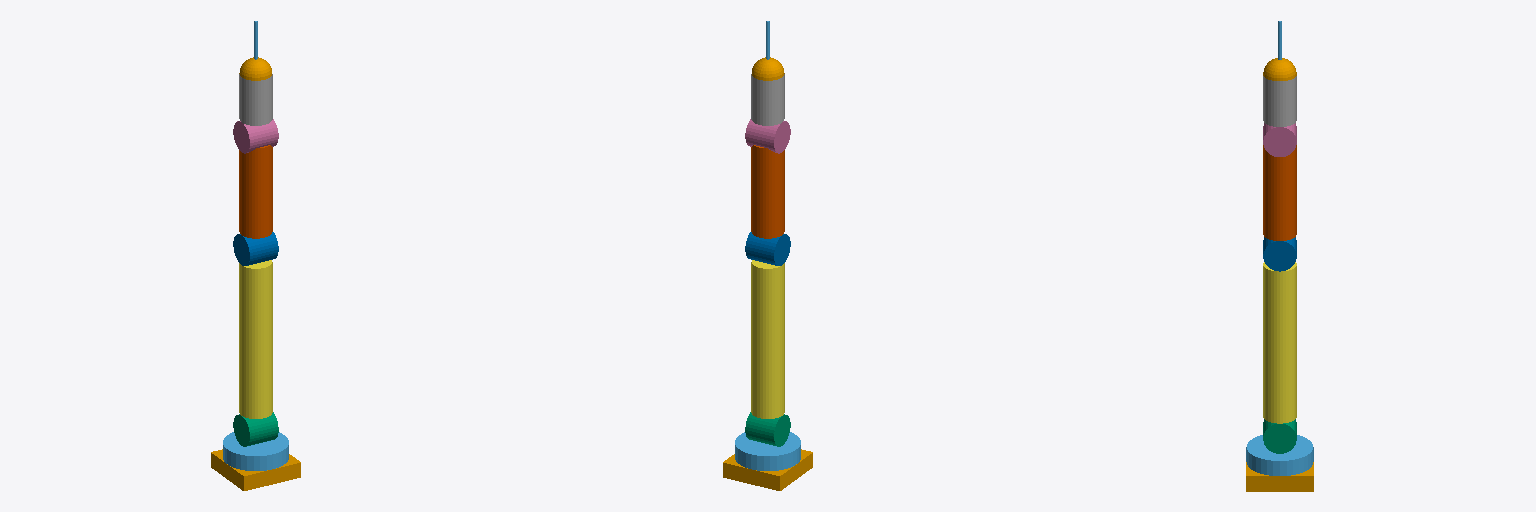
The robot description file, URDF, robot "final":
<?xml version="1.0"?>
<robot name="final">

	<link name="base_link">
	    <visual>
	      <geometry>
		<box size="4 4 1"/>
	      </geometry>
	    </visual>
	</link>

	<link name="rotator1">
	    <visual>
	      <geometry>
		<cylinder radius="2" length="1"/>
	      </geometry>
	    </visual>
	</link>

	<link name="pivot1">
	    <visual>
	      <origin xyz="0 0 0" rpy="0 1.57 0"/>
	      <geometry>
		<cylinder radius="1" length="2"/>
	      </geometry>
	    </visual>
	</link>

	<link name ="arm1">
	    <visual>
	      <origin xyz="0 0 6" rpy="0 0 0"/>
	      <geometry>
		<cylinder radius="1" length="10"/>
	      </geometry>
	    </visual>
	</link>

	<link name="pivot2">
	    <visual>
	      <origin xyz="0 0 0" rpy="0 1.57 0"/>
	      <geometry>
		<cylinder radius="1" length="2"/>
	      </geometry>
	    </visual>
	</link>

	<link name ="arm2">
	    <visual>
	      <origin xyz="0 0 4" rpy="0 0 0"/>
	      <geometry>
		<cylinder radius="1" length="6"/>
	      </geometry>
	    </visual>
	</link>

	<link name="pivot3">
	    <visual>
	      <origin xyz="0 0 0" rpy="0 1.57 0"/>
	      <geometry>
		<cylinder radius="1" length="2"/>
	      </geometry>
	    </visual>
	    <collision>
	    	<origin xyz="0 0 0" rpy="0 1.57 0"/>
	    	<geometry>
	    	 <cylinder radius="1" length ="2"/>
	    	</geometry>
	    </collision>
	</link>

	<link name="arm3">
	    <visual>
	      <origin xyz="0 0 2.5" rpy="0 0 0"/>
	      <geometry>
		<cylinder radius="1" length="3"/>
	      </geometry>
	    </visual>
	    <collision>
	    	<origin xyz="0 0 2.5" rpy="0 1.57 0"/>
	    	<geometry>
	    	 <cylinder radius="1" length ="3"/>
	    	</geometry>
	    </collision>
	</link>



	<link name="sphere">
	    <visual>
	      <origin xyz="0 0 3" rpy="0 0 0"/>
	      <geometry>
		<sphere radius="1"/>
	      </geometry>
	    </visual>
	    <collision>
	    	<geometry>
	    	 <sphere radius="0"/>
	    	</geometry>
	    </collision>
	</link>

	<link name="needle">
	    <visual>
	      <origin xyz="0 0 5" rpy="0 0 0"/>
	      <geometry>
		<cylinder radius="0.1" length="3"/>
	      </geometry>
	    </visual>
	    <collision>
	    	<origin xyz="0 0 0" rpy="0 0 0"/>
	    	<geometry>
	    	 <cylinder radius="0.1" length ="3"/>
	    	</geometry>
	    </collision>
	</link>



	<joint name="base_link_to_rotator1" type="continuous">
	  <origin xyz="0 0 1" rpy="0 0 0"/>
	  <axis xyz="0 0 1"/>
	  <parent link="base_link"/>
	  <child link="rotator1"/>
	</joint>

	<joint name="rotator1_to_pivot1" type="fixed">
	  <origin xyz="0 0 1.5" rpy="0 0 0"/>
	  <parent link="rotator1"/>
	  <child link="pivot1"/>
	</joint>

	<joint name="pivot1_to_arm1" type="revolute">
	  <parent link="pivot1"/>
	  <child link="arm1"/>
	  <axis xyz="1 0 0"/>
	  <limit lower="-1.57" upper="1.57" effort="30" velocity="1"/>
	</joint>

	<joint name="arm1_to_pivot2" type="continuous">
	  <parent link="arm1"/>
	  <child link="pivot2"/>
	  <origin xyz="0 0 12" rpy="0 0 0"/>
	  <axis xyz="0 0 1"/>
	</joint>

	<joint name="pivot2_to_arm2" type="revolute">
	  <parent link="pivot2"/>
	  <child link="arm2"/>
	  <axis xyz="1 0 0"/>
	  <limit lower="-1.57" upper="1.57" effort="30" velocity="1"/>
	</joint>

	<joint name="arm2_to_pivot3" type="continuous">
	  <parent link="arm2"/>
	  <child link="pivot3"/>
	  <origin xyz="0 0 7.5" rpy="0 0 0"/>
	  <axis xyz="0 0 1"/>
	</joint>

	<joint name="pivot3_to_arm3" type="revolute">
	  <parent link="pivot3"/>
	  <child link="arm3"/>
	  <axis xyz="1 0 0"/>
	  <limit lower="-1.57" upper="1.57" effort="30" velocity="1"/>
	</joint>
	
	<joint name="arm3_to_sphere" type="fixed">
	  <origin xyz="0 0 1" rpy="0 0 0"/>
	  <parent link="arm3"/>
	  <child link="sphere"/>
	</joint>


	<joint name="sphere_to_needle" type="prismatic">
	  <parent link="sphere"/>
	  <child link="needle"/>
	  <axis xyz="0 0 1"/>
	  <limit lower="-1.57" upper="1.57" effort="30" velocity="1"/>
	</joint>

</robot>

--- What the picture shows (computed from the rendered views, not written in the file) ---
3 views of the same robot in one strip: view 1: azimuth 30°, elevation 25°; view 2: azimuth 150°, elevation 25°; view 3: azimuth 270°, elevation 25° (orthographic).
Model final with 10 links and 9 joints (3 revolute, 3 continuous, 1 prismatic, 2 fixed), rooted at base_link, posed every joint at zero.
Visible links, largest first — view 1: arm1, arm2, rotator1, base_link, arm3, pivot1, pivot2, pivot3, sphere; view 2: arm1, arm2, rotator1, base_link, arm3, pivot1, pivot2, pivot3, sphere; view 3: arm1, arm2, rotator1, arm3, base_link, pivot1, pivot2, pivot3, sphere.
Boxes of the visible links, bbox=[...] form: arm1: bbox=[239, 260, 272, 418]; arm2: bbox=[239, 145, 272, 238]; rotator1: bbox=[223, 432, 288, 470]; base_link: bbox=[211, 449, 300, 490]; arm3: bbox=[239, 74, 272, 125]; pivot1: bbox=[233, 412, 278, 446]; pivot2: bbox=[233, 232, 278, 265]; pivot3: bbox=[233, 119, 278, 153]; sphere: bbox=[239, 57, 271, 80]; arm1: bbox=[751, 260, 784, 418]; arm2: bbox=[751, 145, 784, 238]; rotator1: bbox=[735, 432, 800, 470]; base_link: bbox=[723, 449, 812, 490]; arm3: bbox=[751, 74, 784, 125]; pivot1: bbox=[745, 412, 790, 446]; pivot2: bbox=[745, 232, 790, 265]; pivot3: bbox=[745, 119, 790, 153]; sphere: bbox=[752, 57, 784, 80]; arm1: bbox=[1263, 262, 1296, 423]; arm2: bbox=[1263, 145, 1296, 240]; rotator1: bbox=[1246, 435, 1313, 475]; arm3: bbox=[1263, 76, 1296, 126]; base_link: bbox=[1246, 462, 1313, 491]; pivot1: bbox=[1263, 419, 1296, 453]; pivot2: bbox=[1263, 237, 1296, 271]; pivot3: bbox=[1263, 123, 1296, 156]; sphere: bbox=[1263, 58, 1296, 80].
Size in the robot's own frame: 4 by 4 by 30 metres.
Geometry: primitives only (box / cylinder / sphere), no mesh files.